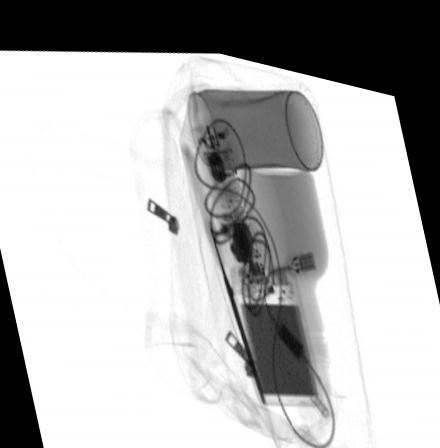Powerbank: (230, 250, 322, 390)
Scissors: (177, 126, 271, 394)
